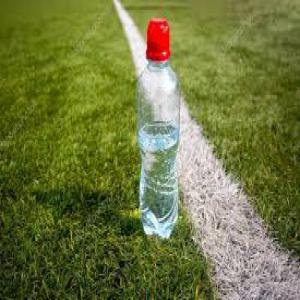Plastic-bottle: (141, 16, 181, 240)
